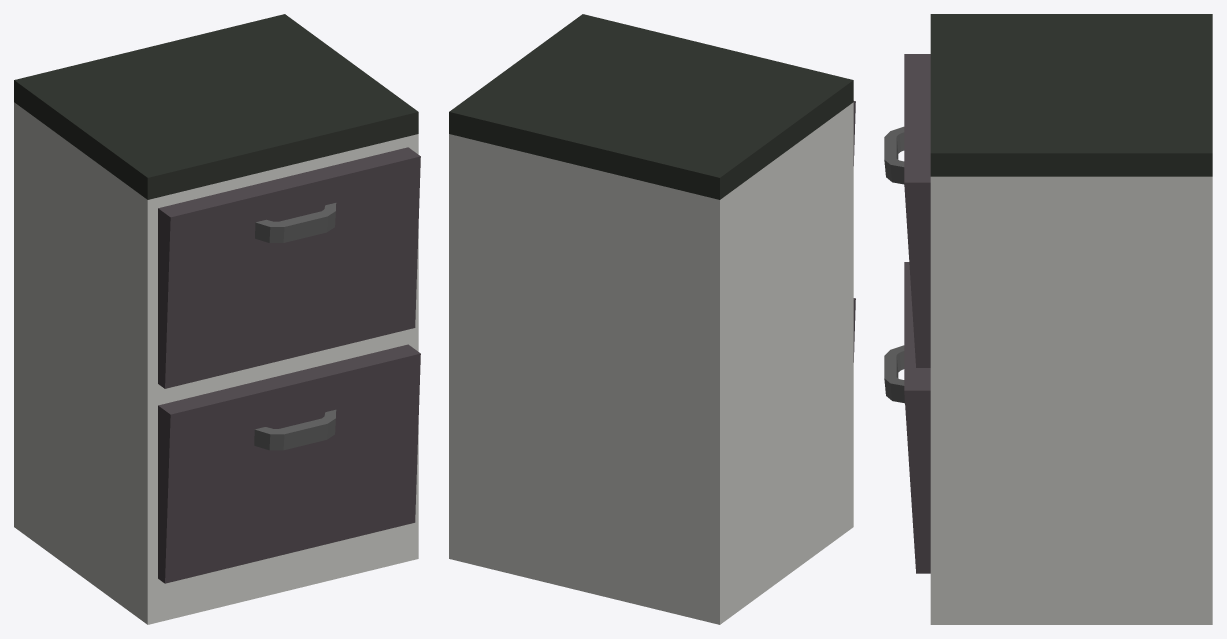
Rendered from SM_drawer_01.fbx.
3 renders of one model, left to right at view 1: azimuth 30°, elevation 25°; view 2: azimuth 150°, elevation 25°; view 3: azimuth 270°, elevation 25°, orthographic. The views are drawn at different scales.
Parts seen in each view (by area): view 1: drawer_01; view 2: drawer_01; view 3: drawer_01.
Part boxes in pixels (x1,y1,x2,y2): drawer_01: [14, 14, 420, 624]; drawer_01: [449, 14, 855, 624]; drawer_01: [884, 14, 1212, 624].
Bounding box in the file's own units: 68.87 × 109 × 68.55.
